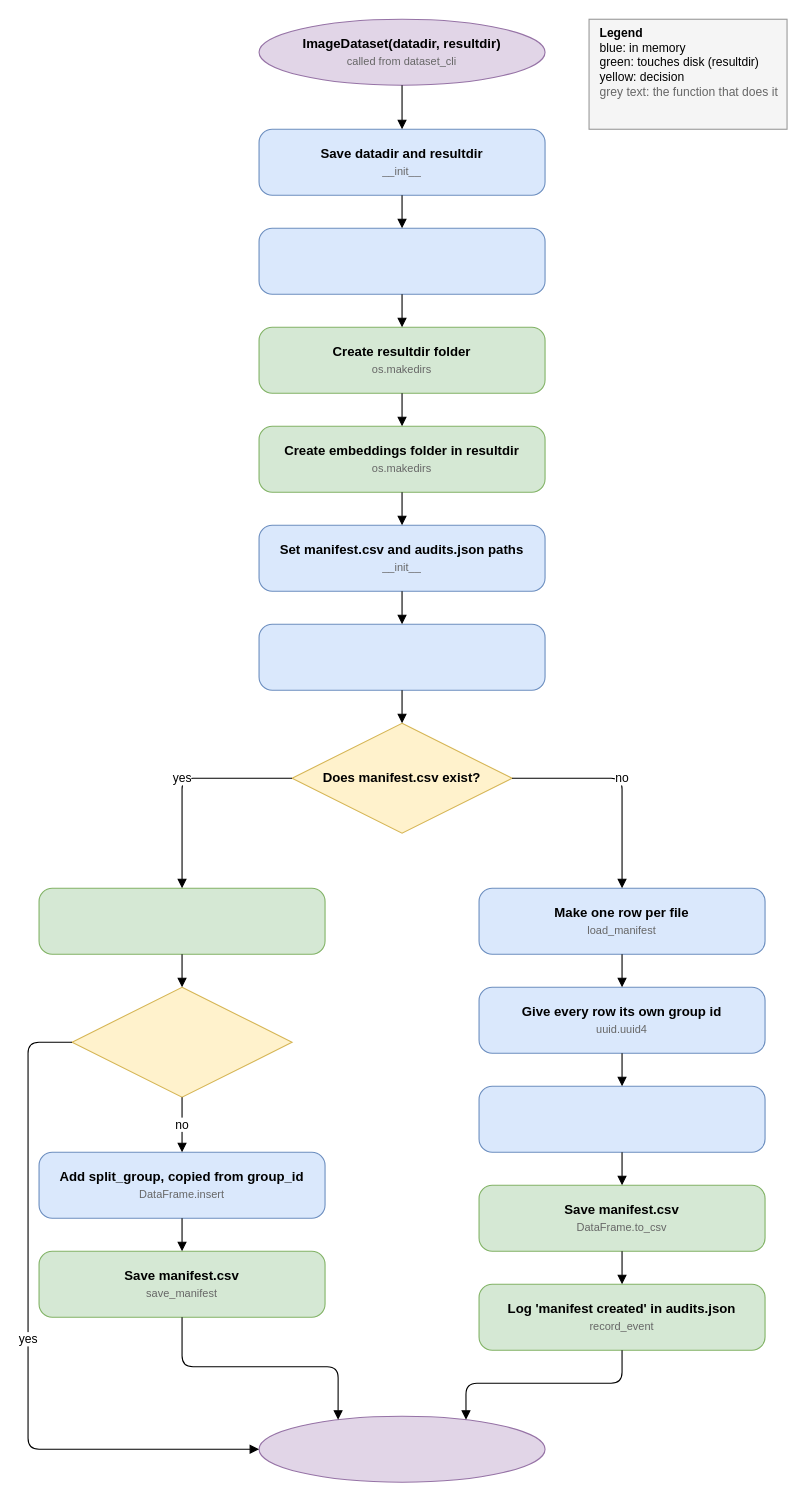
The diagram is 806 pixels wide and 1502 high, and some of its shapes have lost their labels. Here are the shapes that lost their labels. From the top down, the centre of each, then its label:
At (401,260): "List every file in datadir find_image_paths".
At (401,656): "Load the manifest load_manifest".
At (181,920): "Read manifest.csv pd.read_csv".
At (181,1041): "Has a split_group column?".
At (621,1118): "Leave every row unflagged action = reason = ''".
At (401,1448): "Dataset ready back to dataset_cli".
